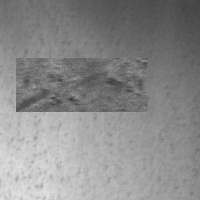pitted_surface: (9, 25, 63, 191), (55, 39, 189, 96), (70, 104, 131, 181), (159, 86, 197, 197)
rolled-in_scale: (16, 58, 148, 112)
